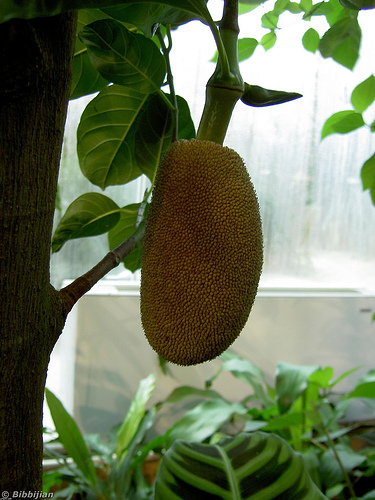jackfruit: (140, 136, 266, 368)
